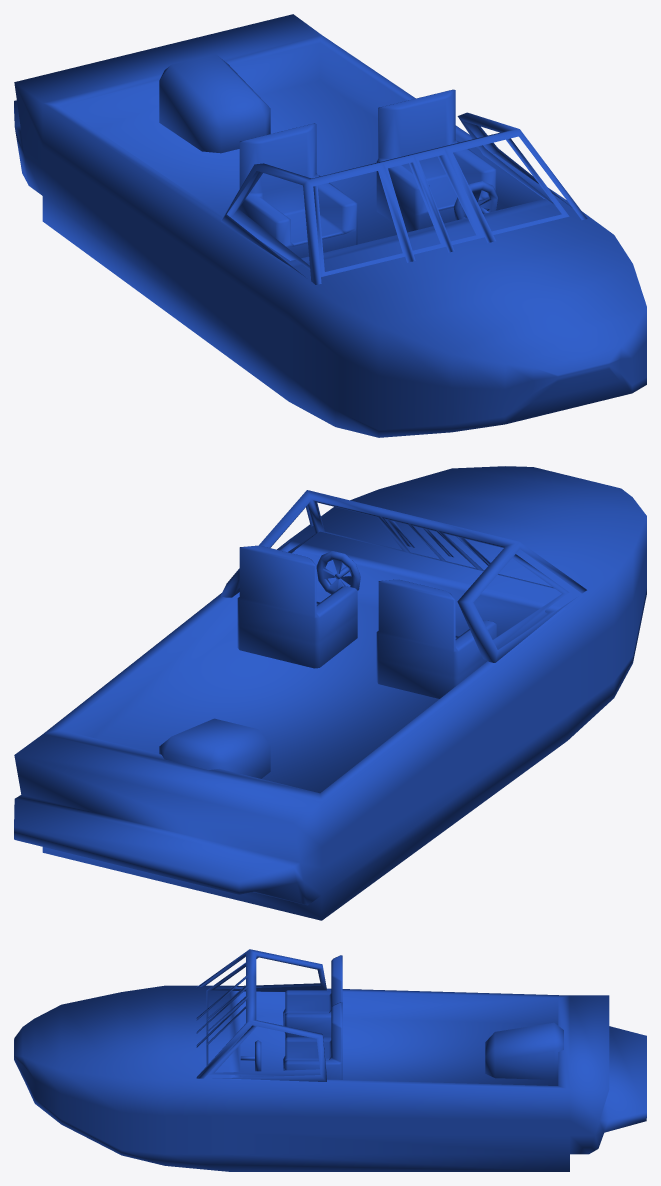
Rendered from hull.obj.
The picture shows the model from 3 angles, top to bottom: view 1: azimuth 30°, elevation 25°; view 2: azimuth 150°, elevation 25°; view 3: azimuth 270°, elevation 25°; orthographic projection. The views are drawn at different scales.
Visible parts, largest first — view 1: Boat_Hull; view 2: Boat_Hull; view 3: Boat_Hull.
Part boxes in pixels (<box>): Boat_Hull: <box>14,14,646,437</box>; Boat_Hull: <box>14,466,646,920</box>; Boat_Hull: <box>14,949,646,1171</box>.
Size of the model in its own units: 2 by 1.38 by 5.67.
